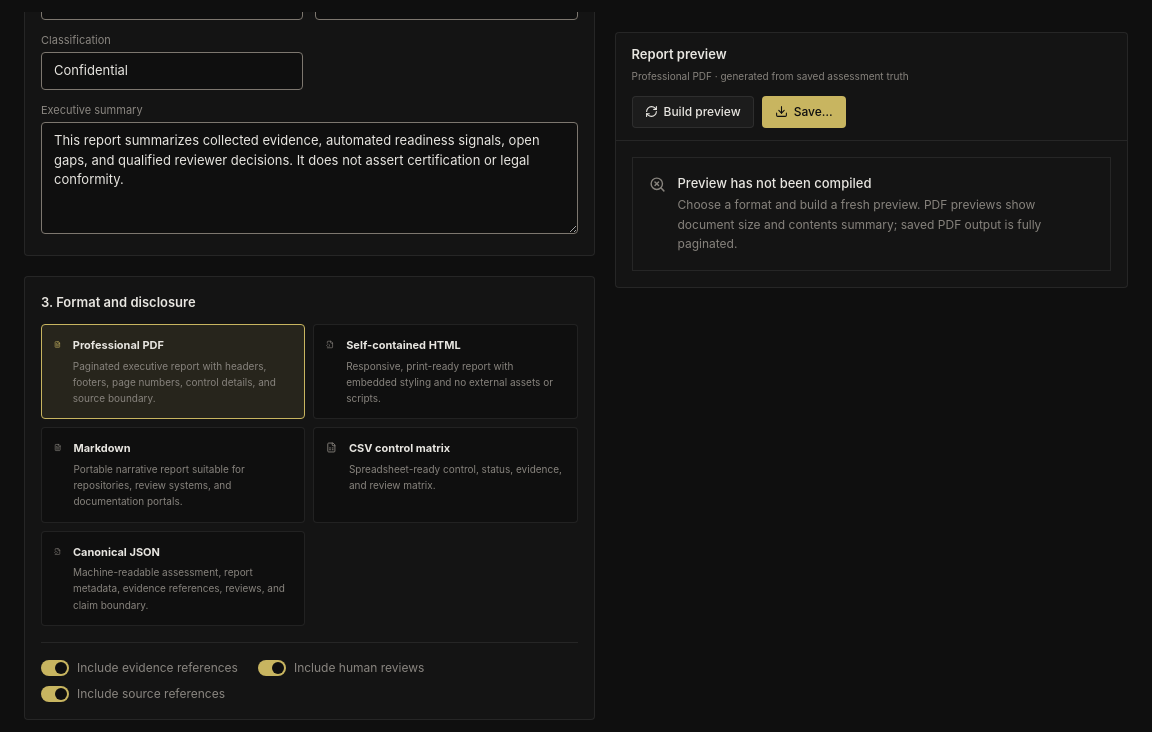
Test: a pending preview cannot publish after changing metadata
(page scrolled)
Click the button "Build preview": (693, 112) [632, 96, 754, 128]
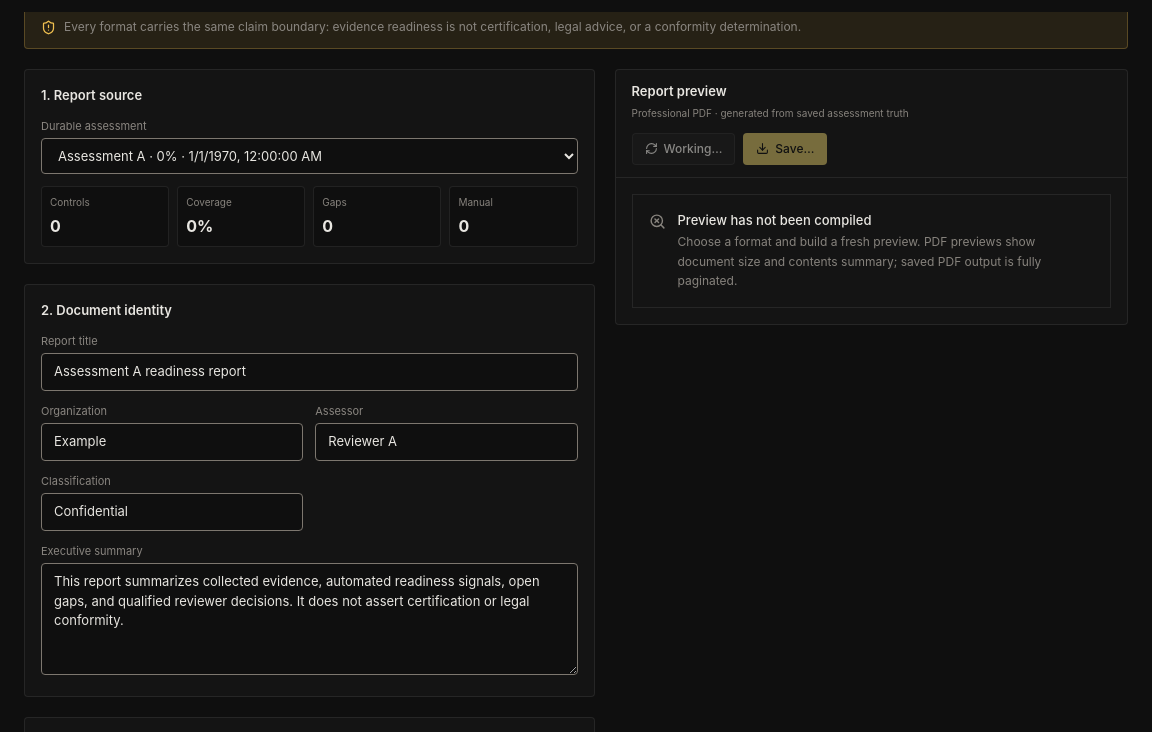
Replace the text in the field labelled "Report title" with "Edited report": (309, 372) [41, 353, 578, 390]
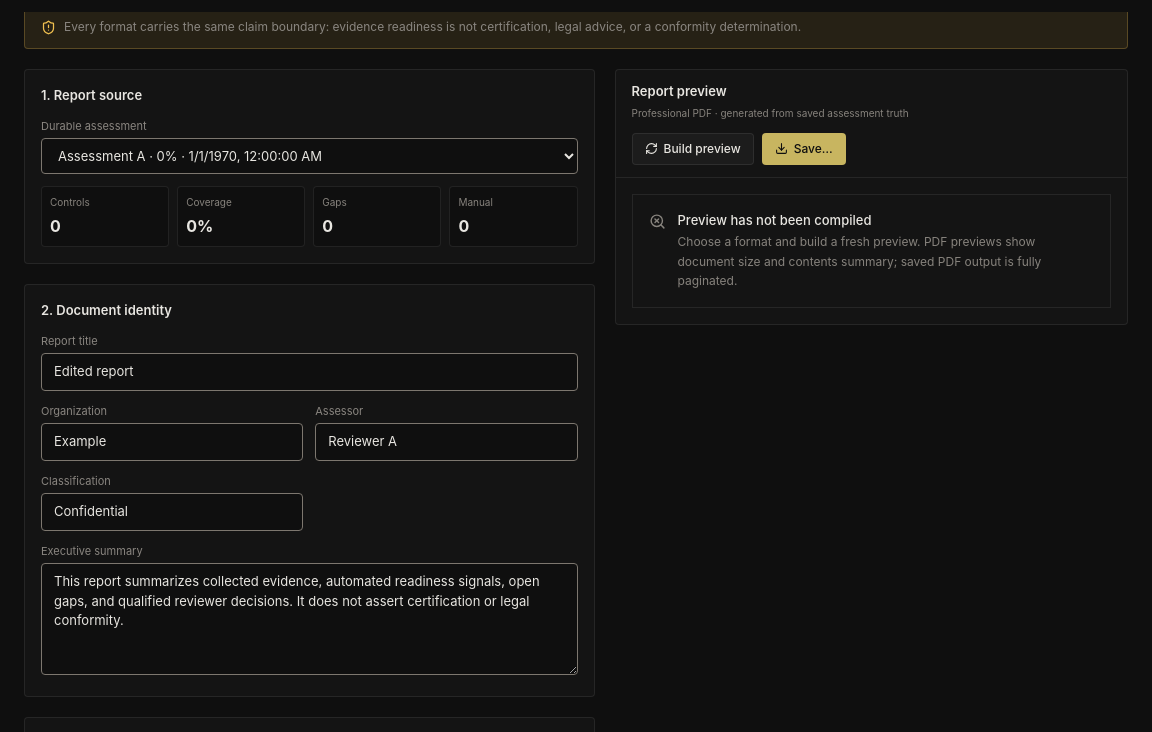
expect the text "Preview has not been compiled" is shown: met, box [678, 212, 871, 228]
expect the button "Build preview" is enabled: met, box [632, 132, 754, 164]
